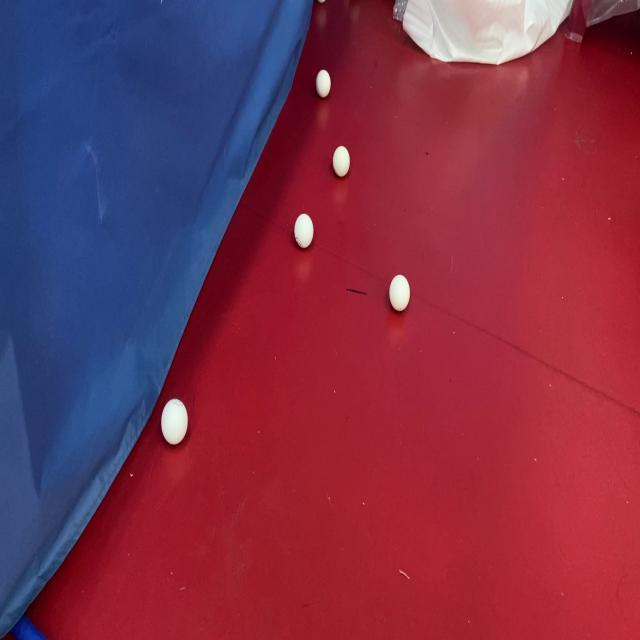ping-pong-ball: (160, 396, 190, 447), (388, 273, 411, 313), (294, 211, 314, 250), (332, 144, 351, 178), (314, 68, 332, 100)
